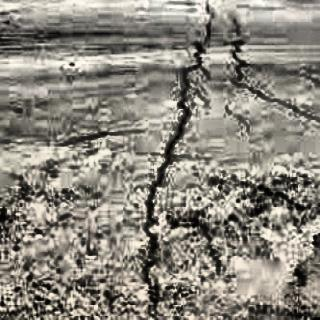crack: (143, 9, 205, 317), (227, 48, 320, 131)
